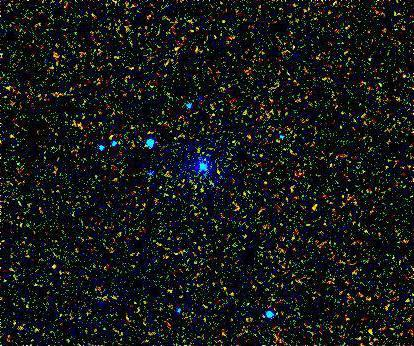star: (233, 179, 263, 209)
